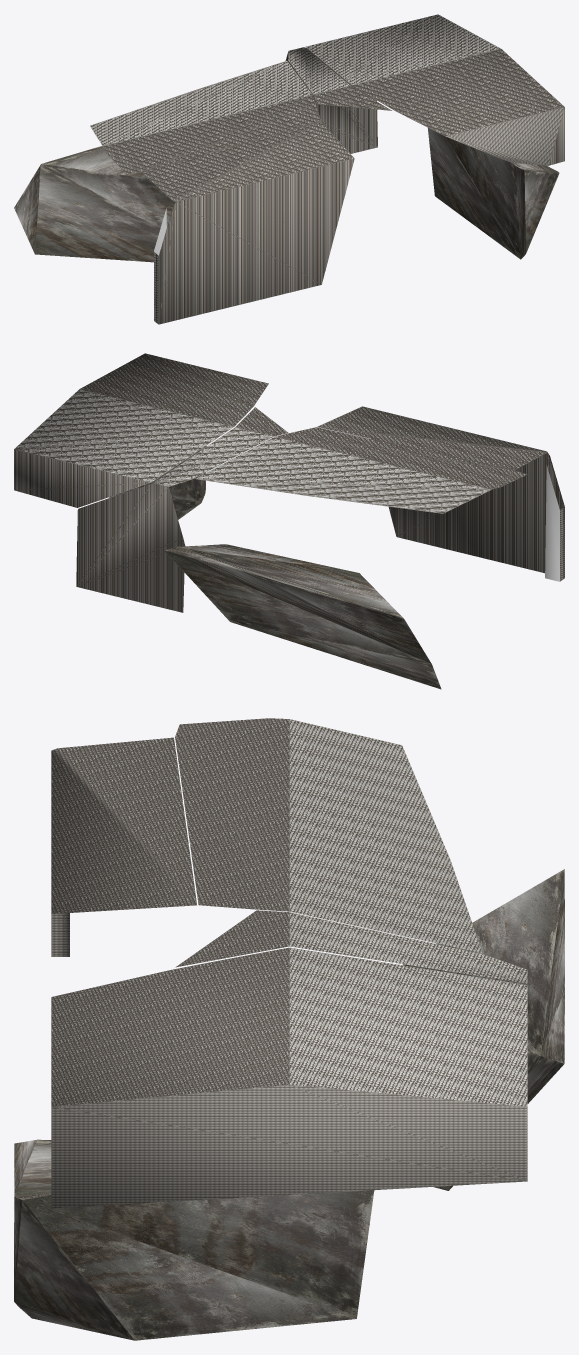
The model's file is L2Hangar.fbx.
3 renders of one model, top to bottom at view 1: azimuth 30°, elevation 25°; view 2: azimuth 150°, elevation 25°; view 3: azimuth 270°, elevation 25°, orthographic. The views are drawn at different scales.
Parts seen in each view (by area): view 1: Hangar_cell.010, Hangar_cell.009, Hangar_cell.019, Hangar_cell.005, Hangar_cell.003, Hangar_cell.020; view 2: Hangar_cell.009, Hangar_cell.005, Hangar_cell.010, Hangar_cell.019, Hangar_cell.020, Hangar_cell.003; view 3: Hangar_cell.009, Hangar_cell.019, Hangar_cell.003, Hangar_cell.010, Hangar_cell.005, Hangar_cell.020.
Part boxes in pixels (x1,y1,x2,y2): Hangar_cell.010: (142, 121, 354, 324); Hangar_cell.009: (305, 14, 564, 165); Hangar_cell.019: (90, 61, 320, 174); Hangar_cell.005: (14, 135, 271, 262); Hangar_cell.003: (428, 128, 559, 259); Hangar_cell.020: (273, 47, 391, 153); Hangar_cell.009: (14, 353, 268, 507); Hangar_cell.005: (165, 544, 441, 689); Hangar_cell.010: (317, 406, 564, 581); Hangar_cell.019: (195, 427, 527, 513); Hangar_cell.020: (76, 407, 288, 612); Hangar_cell.003: (109, 446, 206, 519); Hangar_cell.009: (51, 947, 527, 1208); Hangar_cell.019: (175, 718, 482, 953); Hangar_cell.003: (14, 1139, 374, 1340); Hangar_cell.010: (51, 737, 196, 956); Hangar_cell.005: (403, 869, 564, 1190); Hangar_cell.020: (175, 910, 527, 983).
Bounding box in the file's own units: 121 × 41.42 × 74.06.
